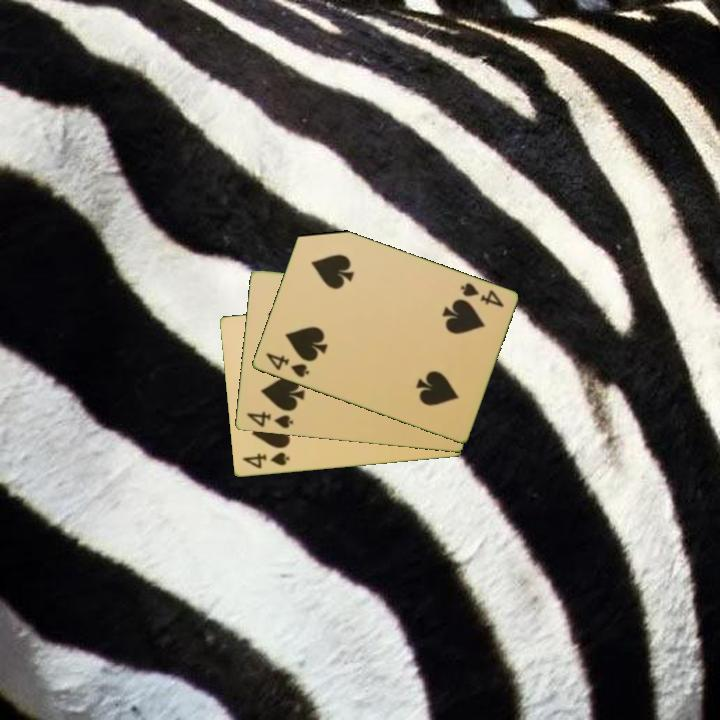4s: (262, 349, 312, 380), (456, 279, 506, 310), (243, 408, 296, 432), (238, 449, 292, 472)
